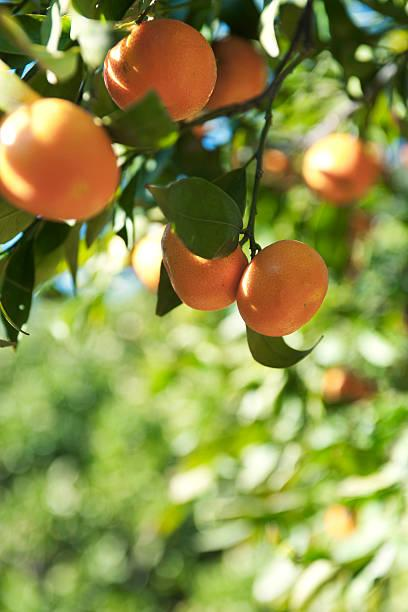orange: (0, 98, 145, 236), (154, 198, 237, 324), (218, 236, 316, 333), (101, 26, 190, 108)
